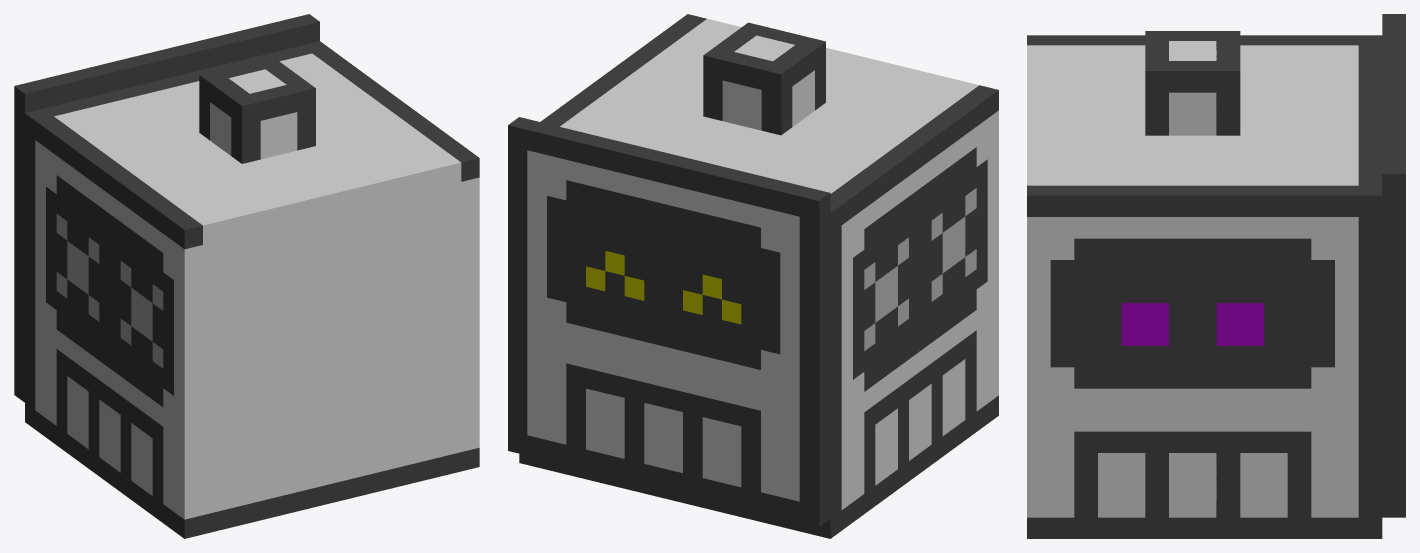
Rendered from 9cb67591-168b-4263-9ae8-057acc74a2b6.glb.
3 views of the same model, side by side, from view 1: azimuth 30°, elevation 25°; view 2: azimuth 150°, elevation 25°; view 3: azimuth 270°, elevation 25° (orthographic). The views are drawn at different scales.
Bounding box in the file's own units: 0.8 × 0.95 × 0.8.
